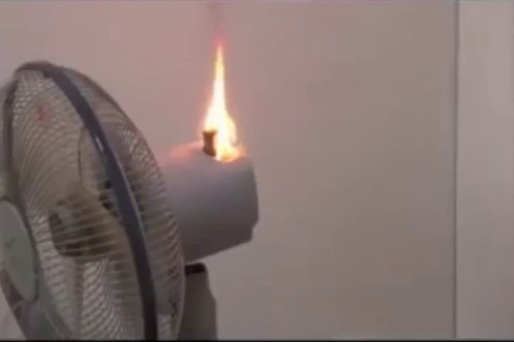fire: (193, 37, 247, 162)
